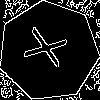X: (23, 26, 77, 73)
